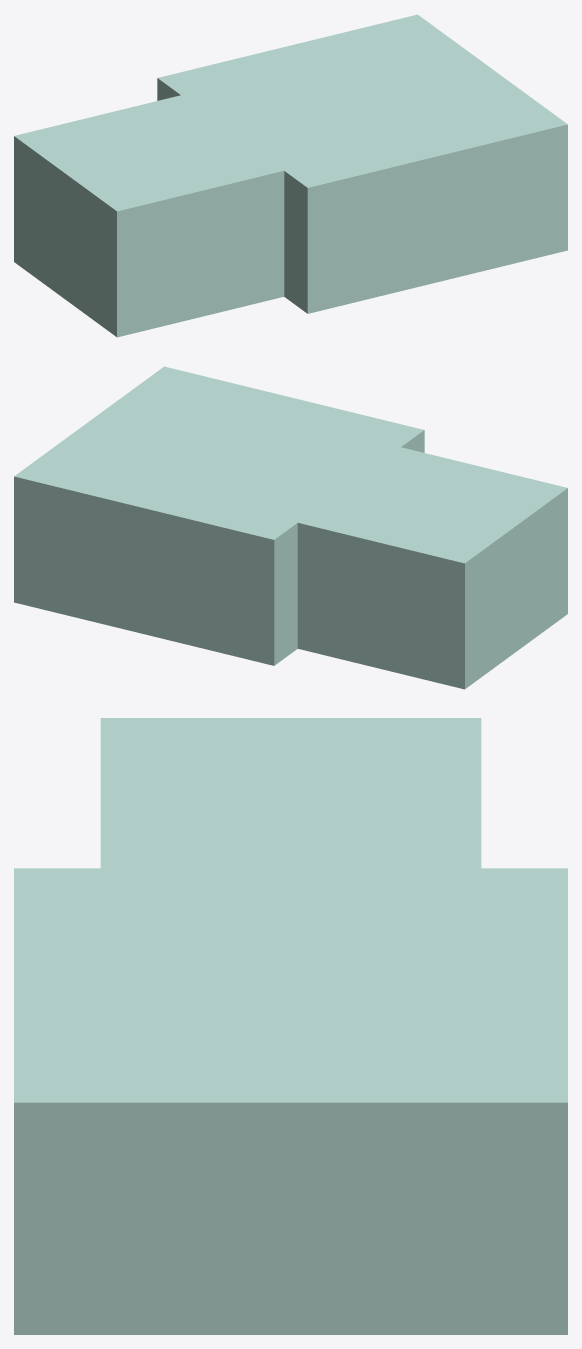
Rendered from Sala.fbx.
3 views of the same model, one above another, from view 1: azimuth 30°, elevation 25°; view 2: azimuth 150°, elevation 25°; view 3: azimuth 270°, elevation 25° (orthographic). The views are drawn at different scales.
Visible parts, largest first — view 1: Plane; view 2: Plane; view 3: Plane.
Part boxes in pixels (x1,y1,x2,y2): Plane: [14, 14, 567, 337]; Plane: [14, 366, 567, 689]; Plane: [14, 718, 567, 1334].
Bounding box in the file's own units: 1100 × 310 × 670.
